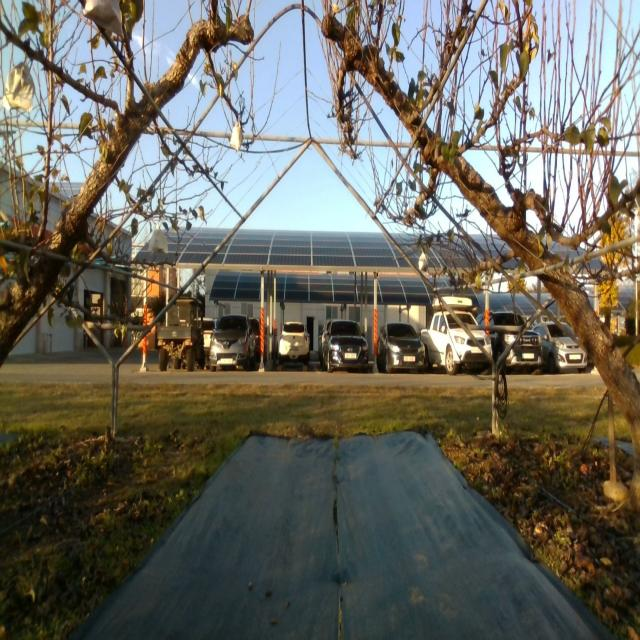pearbags: (1, 64, 34, 114), (83, 0, 124, 40), (148, 228, 168, 254), (230, 122, 244, 150)
